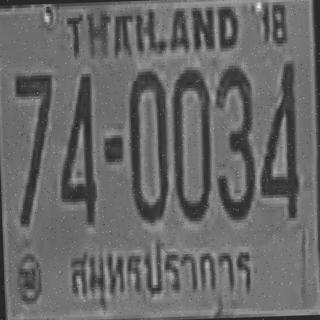N00: (170, 67, 213, 219), (127, 68, 169, 220)
N03: (213, 62, 254, 217)
N04: (256, 59, 299, 217), (55, 71, 96, 223)
N07: (12, 69, 56, 224)
P57: (62, 233, 261, 319)
